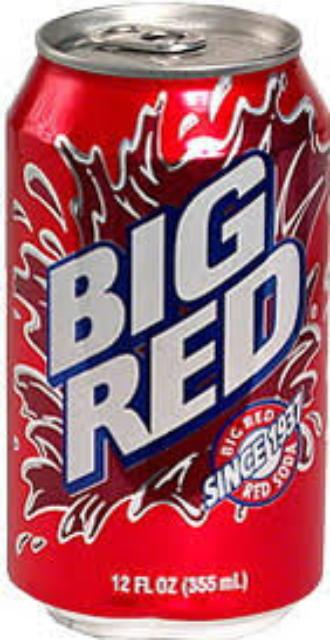metal: (9, 2, 328, 626)
